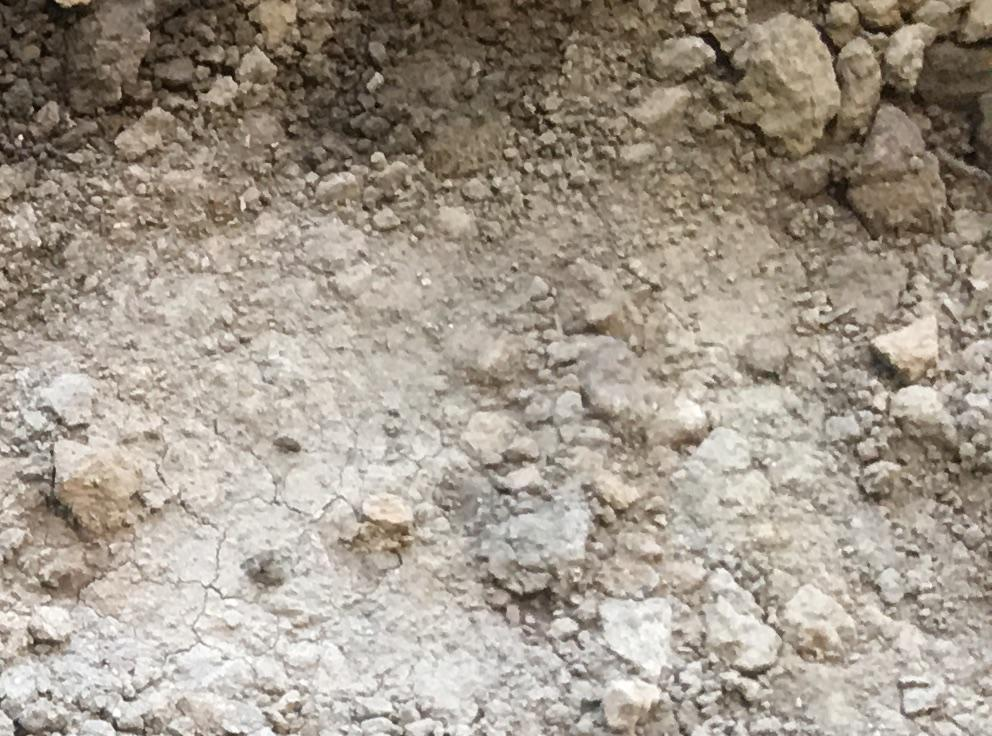block: (740, 14, 832, 162)
